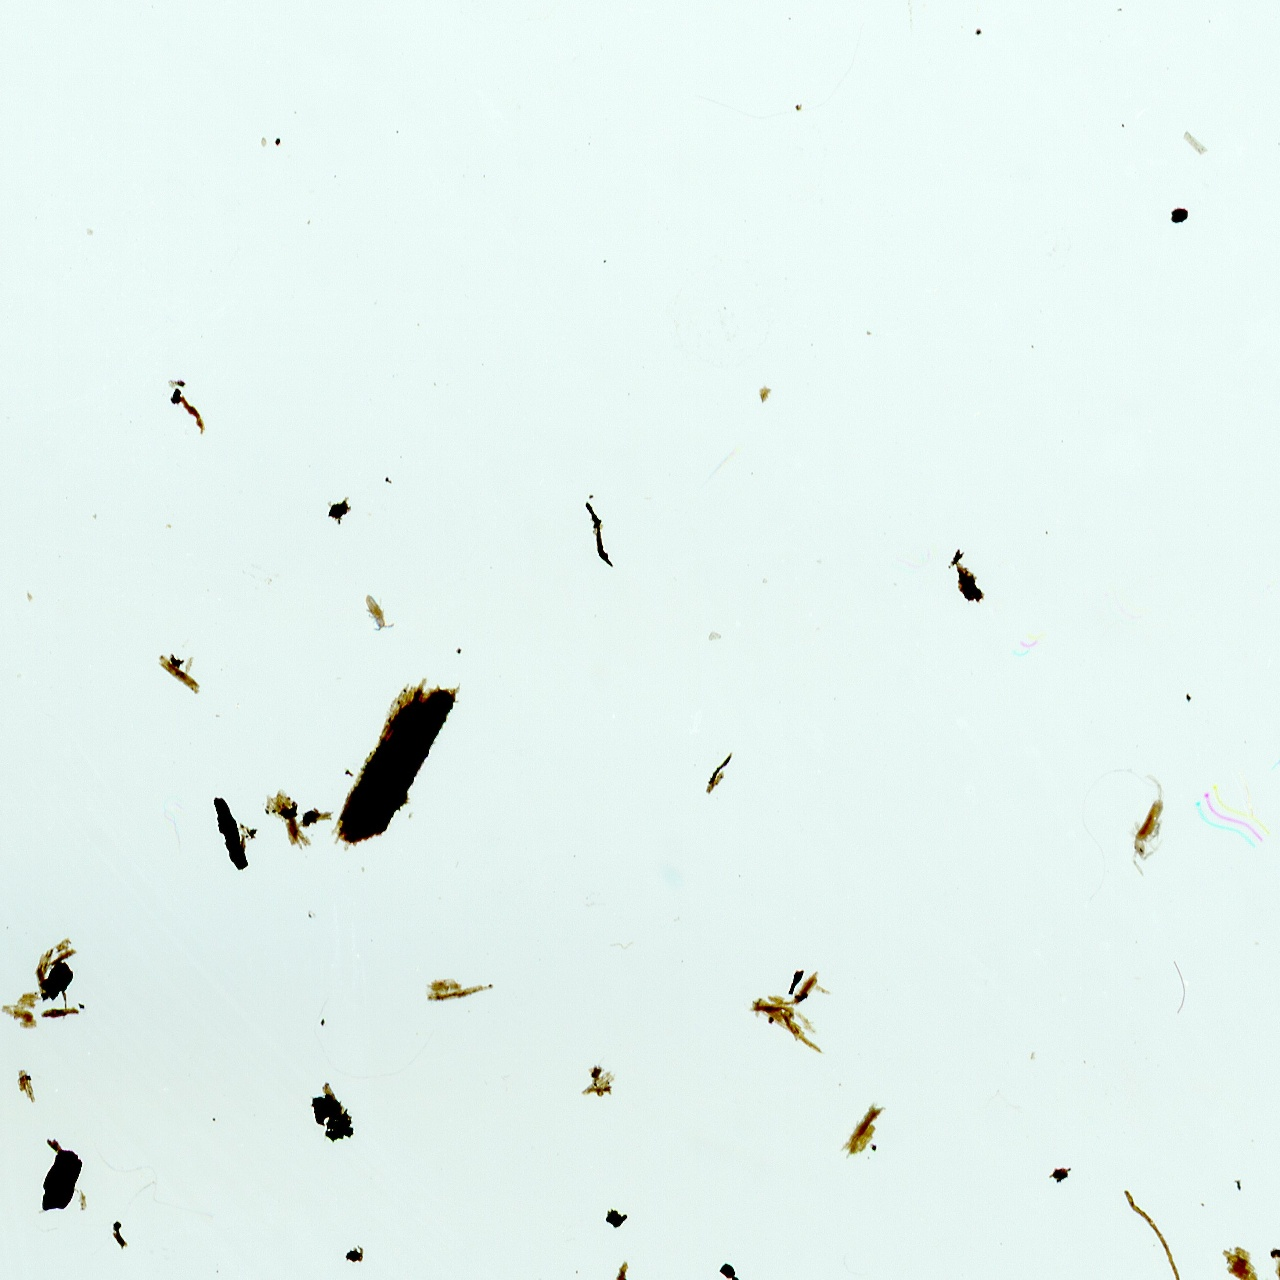arthropod: (1112, 766, 1184, 890), (355, 586, 400, 640)
